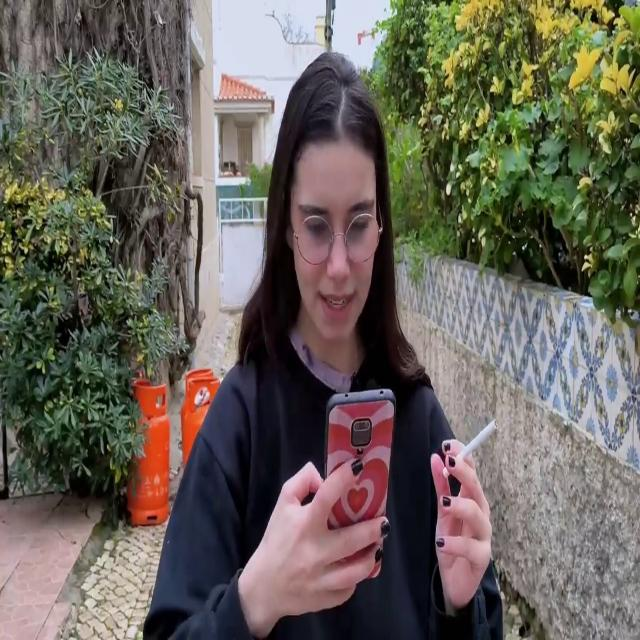Smooking: (463, 402, 504, 468)
